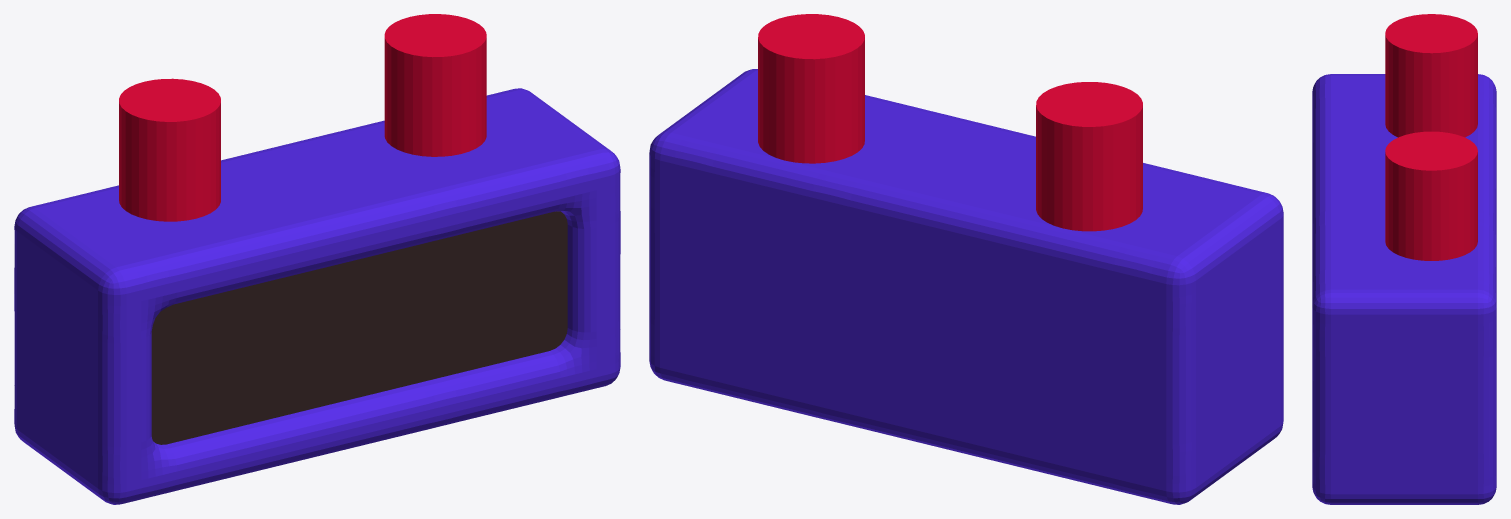
File: small display module.fbx
3 renders of one model, left to right at view 1: azimuth 30°, elevation 25°; view 2: azimuth 150°, elevation 25°; view 3: azimuth 270°, elevation 25°, orthographic. The views are drawn at different scales.
Visible parts, largest first — view 1: inventory panel, inventory screen, conduit top, conduit bottom; view 2: inventory panel, conduit bottom, conduit top; view 3: inventory panel, conduit top, conduit bottom.
Part boxes in pixels (<box>): inventory panel: <box>14,88,620,504</box>; inventory screen: <box>151,211,567,444</box>; conduit top: <box>384,14,486,156</box>; conduit bottom: <box>119,78,220,221</box>; inventory panel: <box>649,69,1283,504</box>; conduit bottom: <box>1036,82,1142,231</box>; conduit top: <box>758,14,864,163</box>; inventory panel: <box>1312,74,1496,504</box>; conduit top: <box>1385,131,1477,260</box>; conduit bottom: <box>1385,14,1477,137</box>.
Size of the model in its own units: 100 by 61.7 by 33.94.
